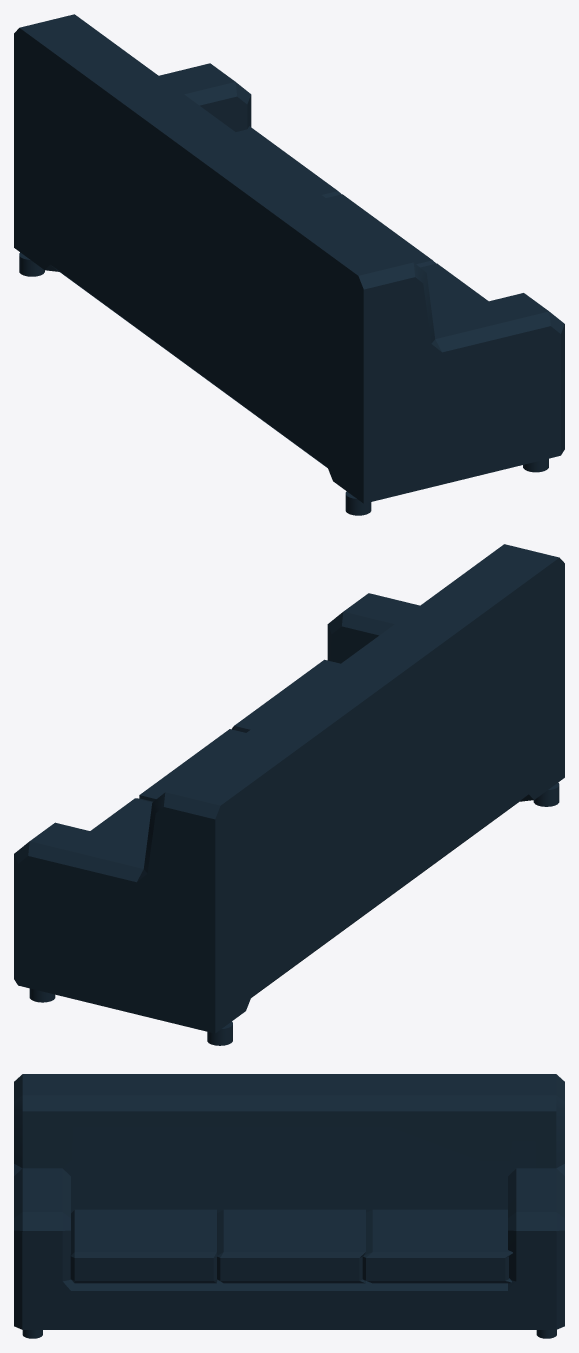
File: Couch_1.FBX
3 views of the same model, one above another, from view 1: azimuth 30°, elevation 25°; view 2: azimuth 150°, elevation 25°; view 3: azimuth 270°, elevation 25° (orthographic). The views are drawn at different scales.
Visible parts, largest first — view 1: Box005; view 2: Box005; view 3: Box005.
Boxes of the visible parts, box(x1,y1,x2,y2) form: Box005: box(14, 14, 564, 515); Box005: box(14, 544, 564, 1045); Box005: box(14, 1074, 564, 1338).
Size of the model in its own units: 32.54 by 35.44 by 93.36.
